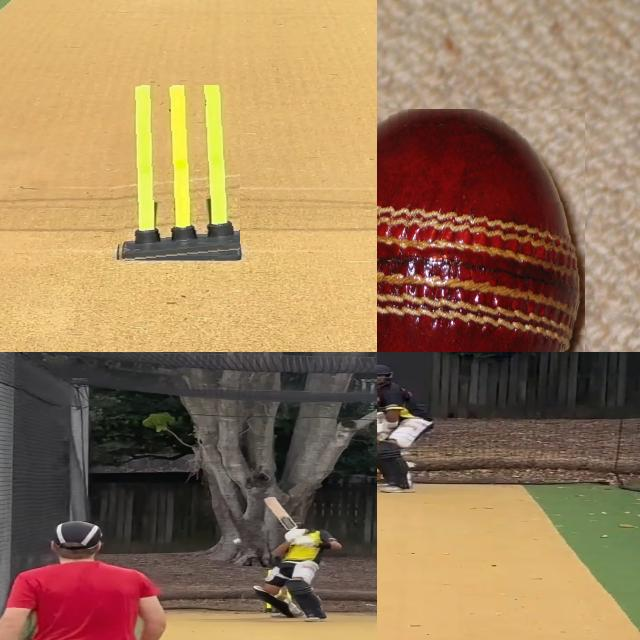Cricket ball: (377, 109, 585, 352), (231, 538, 243, 546)
Stumps: (114, 86, 240, 262)
